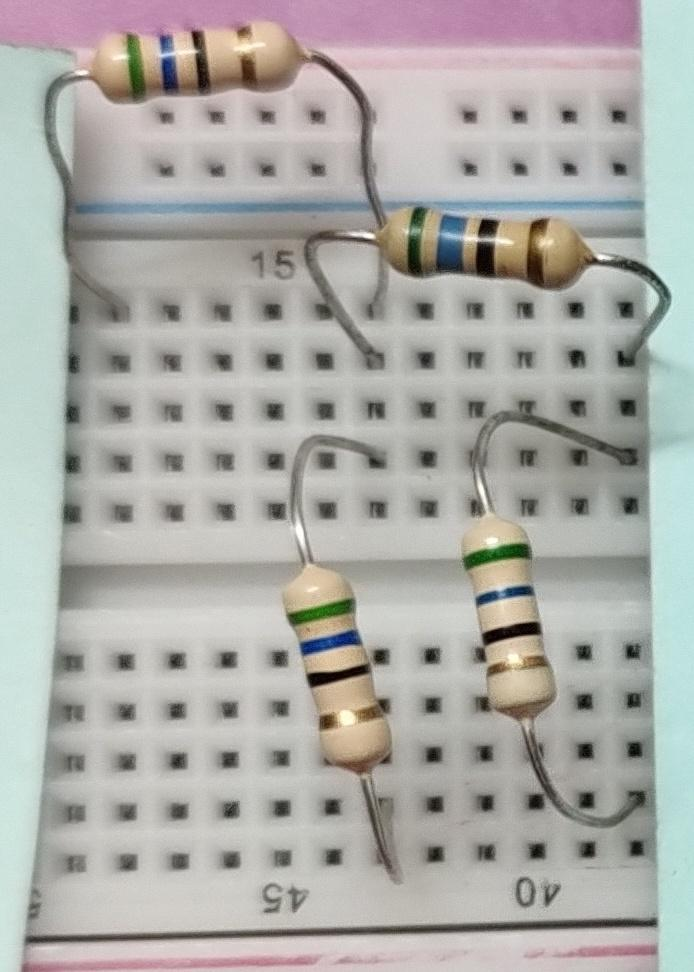resistor: (442, 493, 595, 735), (250, 562, 415, 775), (358, 170, 592, 312), (70, 10, 328, 102)
